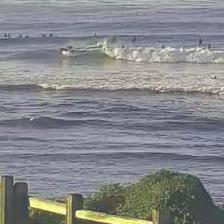surfer: (198, 37, 203, 45), (210, 75, 218, 80), (66, 46, 73, 50), (42, 33, 47, 38), (160, 45, 166, 49), (18, 34, 24, 38), (50, 33, 54, 37), (7, 34, 11, 38), (4, 33, 8, 37), (208, 44, 212, 48), (24, 35, 29, 38), (133, 36, 136, 40)
